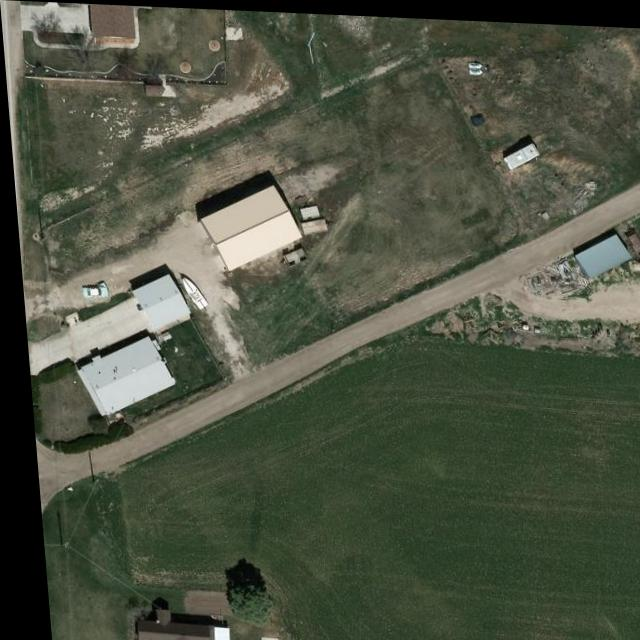vehicle: (73, 278, 108, 306)
